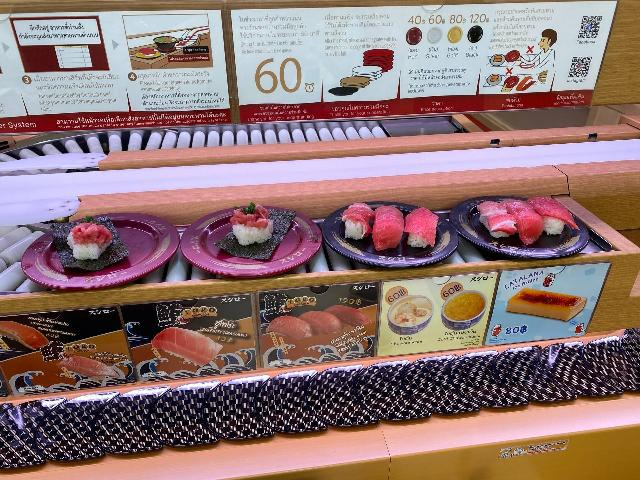janback: (459, 191, 599, 274), (335, 195, 459, 278)
janred: (169, 198, 315, 284), (29, 207, 197, 275)
